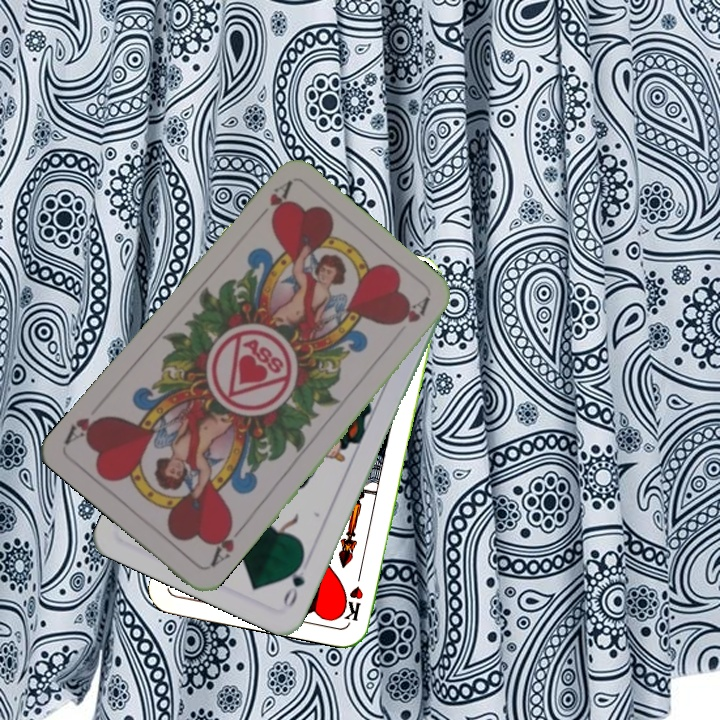GO: (278, 553, 308, 610)
HA: (206, 517, 247, 570), (250, 178, 294, 227)
HK: (340, 565, 366, 623)
